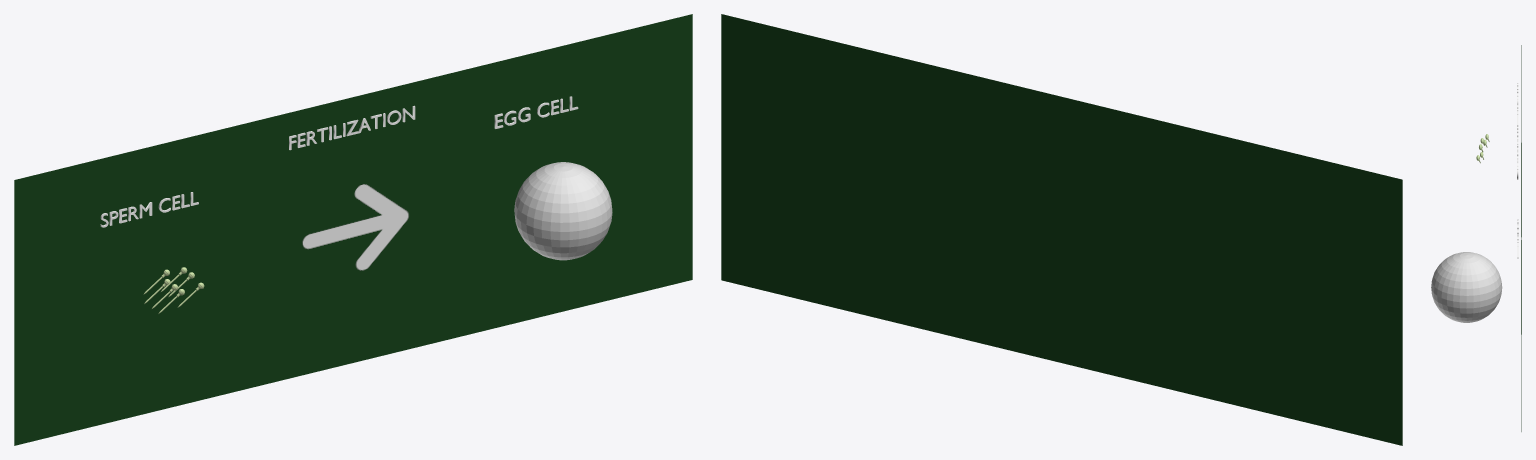
File: spermeggarrow.gltf
The picture shows the model from 3 angles, left to right: view 1: azimuth 30°, elevation 25°; view 2: azimuth 150°, elevation 25°; view 3: azimuth 270°, elevation 25°; orthographic projection. The views are drawn at different scales.
Visible parts, largest first — view 1: Plane.013, Plane, Sphere, Text.001, Text.008, Text.009; view 2: Plane.013; view 3: Sphere, Plane.013.
Part boxes in pixels (bbox=[...]): Plane.013: bbox=[14, 14, 692, 445]; Plane: bbox=[300, 171, 411, 288]; Sphere: bbox=[514, 162, 612, 260]; Text.001: bbox=[289, 105, 415, 150]; Text.008: bbox=[100, 192, 198, 227]; Text.009: bbox=[494, 96, 578, 128]; Plane.013: bbox=[721, 14, 1402, 445]; Sphere: bbox=[1431, 252, 1502, 322]; Plane.013: bbox=[1521, 45, 1521, 431].
Bounding box in the file's own units: 15.94 × 5.96 × 2.55.
13 materials, 1 textured.
